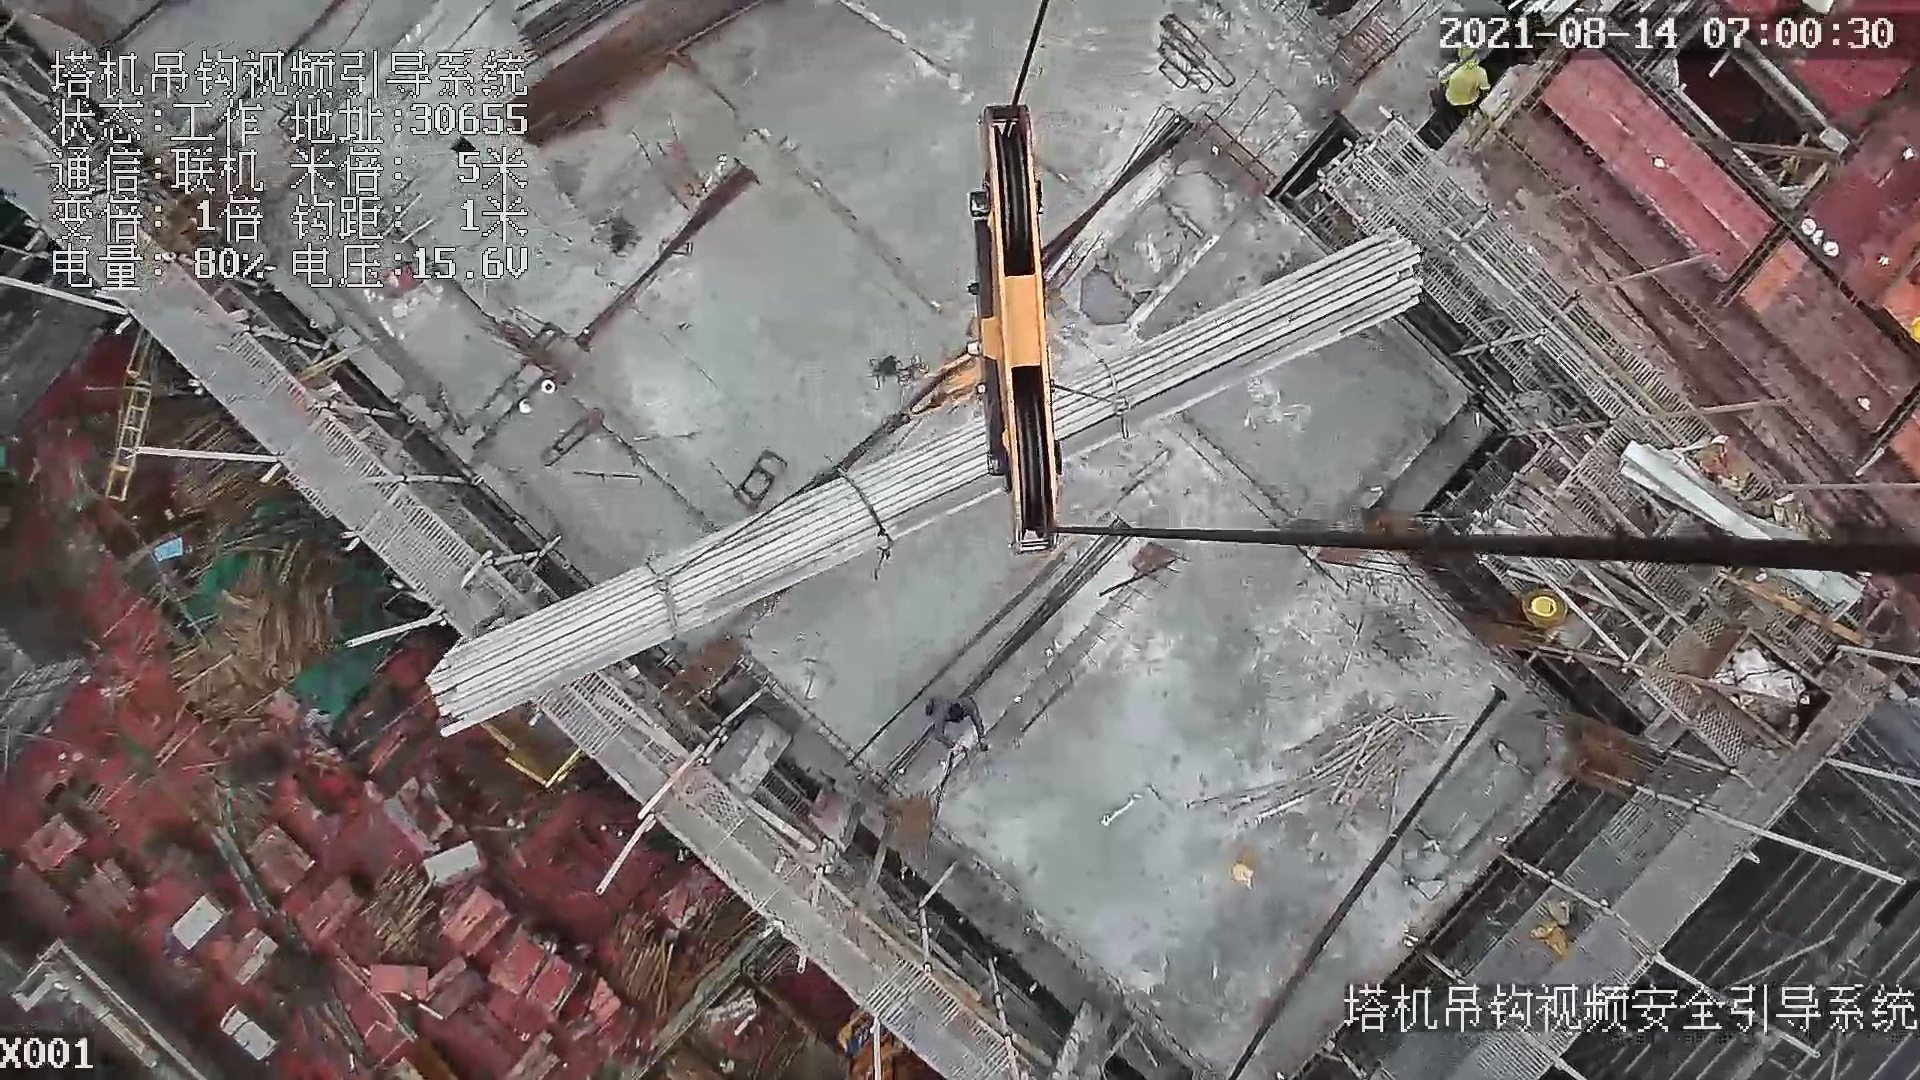hook: (914, 97, 1074, 559)
person: (926, 692, 1014, 753)
